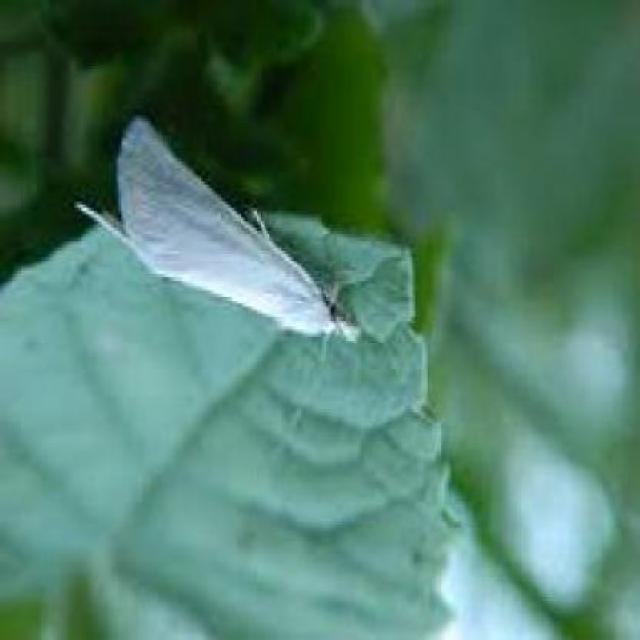stem-borer: (72, 109, 363, 349)
